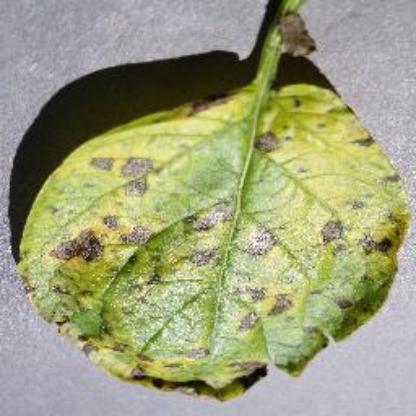Early-Blight: (17, 5, 416, 401)
